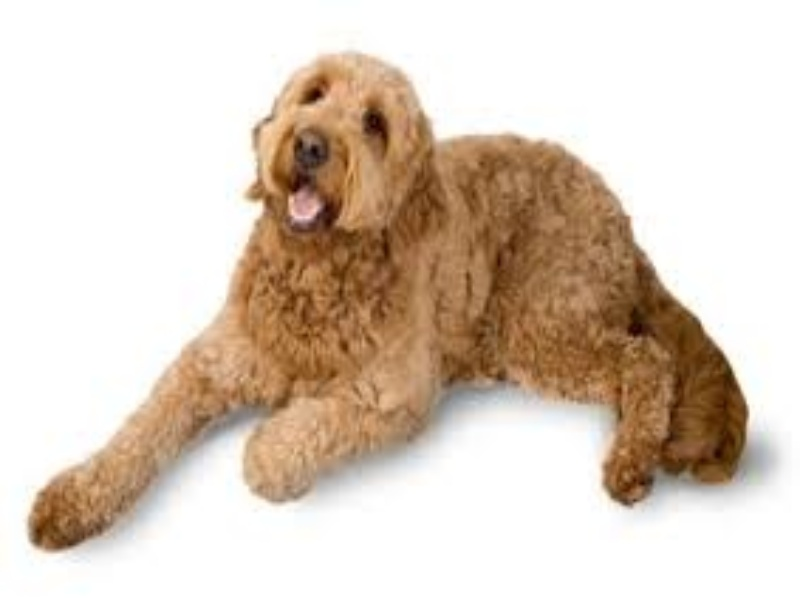dog: (20, 47, 752, 552)
